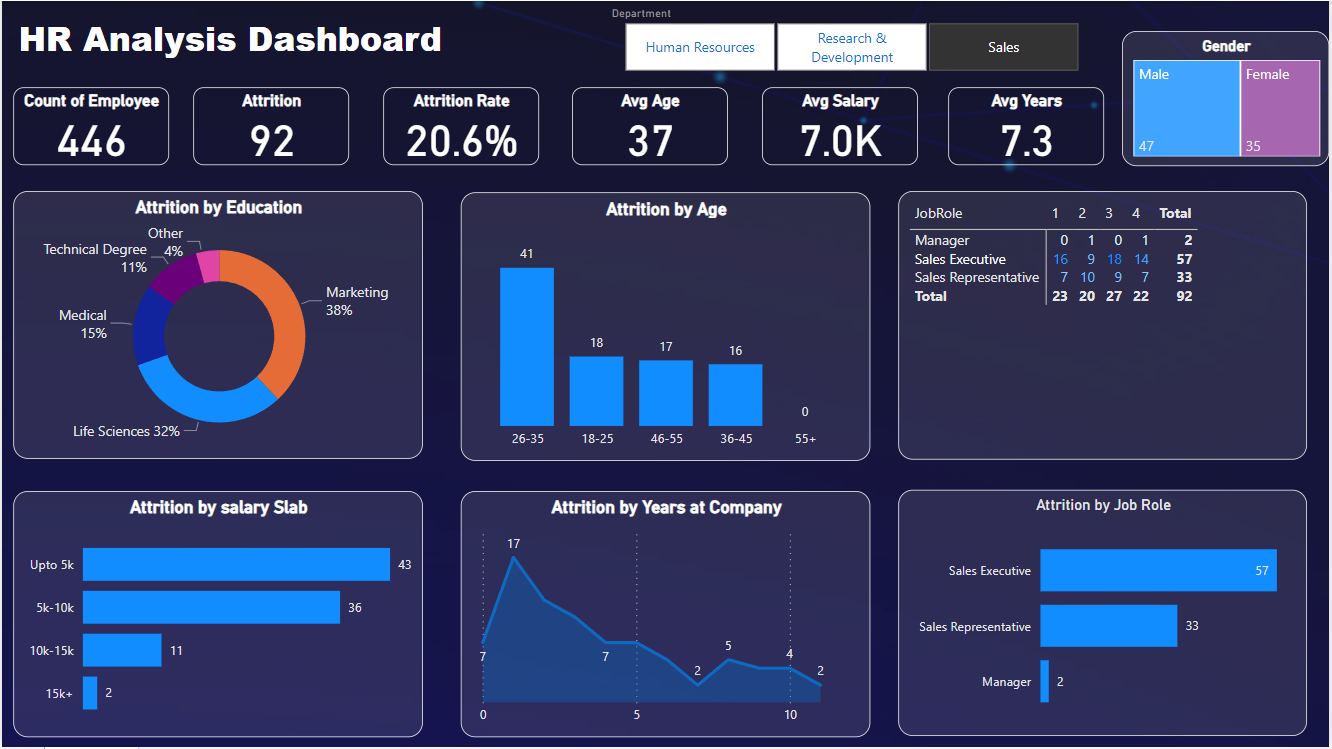

The page's visual inventory and layout, read from the dashboard file:
{"tool":"powerbi","page":{"name":"Page 1","canvas":[1280,720],"ordinal":0},"visuals":[{"type":"card","title":"Count of Employee","fields":{"Values":["CountNonNull(HR_Analytics.EmpID)"]},"box":[11.2,83.8,150,75],"z":0},{"type":"card","title":"Attrition","fields":{"Values":["Sum(HR_Analytics.AttritionCount)"]},"box":[185,83.8,150,75],"z":1000},{"type":"card","title":"Attrition Rate","fields":{"Values":["HR_Analytics.AttritionRate"]},"box":[367.5,83.8,150,75],"z":2000},{"type":"card","title":"Avg Age","fields":{"Values":["Avg(HR_Analytics.Age)"]},"box":[550,83.8,150,75],"z":3000},{"type":"card","title":"Avg Years","fields":{"Values":["Avg(HR_Analytics.YearsAtCompany)"]},"box":[912.5,83.8,150,75],"z":4000},{"type":"card","title":"Avg Salary","fields":{"Values":["Avg(HR_Analytics.MonthlyIncome)"]},"box":[733.8,83.8,150,75],"z":5000},{"type":"donutChart","title":"Attrition by Education","fields":{"Category":["HR_Analytics.EducationField"],"Y":["Sum(HR_Analytics.AttritionCount)"]},"box":[11.2,183.8,395,258.8],"z":6000},{"type":"columnChart","title":"Attrition by Age","fields":{"Category":["HR_Analytics.AgeGroup"],"Y":["Sum(HR_Analytics.AttritionCount)"]},"box":[427.5,183.8,395,258.8],"z":7000},{"type":"pivotTable","fields":{"Rows":["HR_Analytics.JobRole"],"Columns":["HR_Analytics.JobSatisfaction"],"Values":["Sum(HR_Analytics.AttritionCount)"]},"box":[850,183.8,395,258.8],"z":8000},{"type":"clusteredBarChart","title":"Attrition by salary Slab","fields":{"Category":["HR_Analytics.SalarySlab"],"Y":["Sum(HR_Analytics.AttritionCount)"]},"box":[11.2,472.5,395,237.5],"z":9000},{"type":"clusteredBarChart","title":"Attrition by Job Role","fields":{"Category":["HR_Analytics.JobRole"],"Y":["Sum(HR_Analytics.AttritionCount)"]},"box":[850,472.5,395,237.5],"z":10000},{"type":"areaChart","title":"Attrition by Years at Company","fields":{"Category":["HR_Analytics.YearsAtCompany"],"Y":["Sum(HR_Analytics.AttritionCount)"]},"box":[427.5,472.5,395,237.5],"z":11000},{"type":"treemap","title":"Gender","fields":{"Group":["HR_Analytics.Gender"],"Values":["Sum(HR_Analytics.AttritionCount)"]},"box":[1080,28.8,200,130],"z":12000},{"type":"slicer","fields":{"Values":["HR_Analytics.Department"]},"box":[575,0,487.5,74],"z":13000},{"type":"textbox","box":[11.2,8.8,490,66.2],"z":14000}]}

Visuals, with their boxes in screenshot pixels (x1, y1, x2, y2), scaled from the page's 1280x720 canvas onto the 1332x749 screenshot:
"Count of Employee" card: BBox(12, 87, 168, 165)
"Attrition" card: BBox(193, 87, 349, 165)
"Attrition Rate" card: BBox(382, 87, 539, 165)
"Avg Age" card: BBox(572, 87, 728, 165)
"Avg Years" card: BBox(950, 87, 1106, 165)
"Avg Salary" card: BBox(764, 87, 920, 165)
"Attrition by Education" donutChart: BBox(12, 191, 423, 460)
"Attrition by Age" columnChart: BBox(445, 191, 856, 460)
pivotTable - HR_Analytics.JobRole x HR_Analytics.JobSatisfaction: BBox(885, 191, 1296, 460)
"Attrition by salary Slab" clusteredBarChart: BBox(12, 492, 423, 739)
"Attrition by Job Role" clusteredBarChart: BBox(885, 492, 1296, 739)
"Attrition by Years at Company" areaChart: BBox(445, 492, 856, 739)
"Gender" treemap: BBox(1124, 30, 1331, 165)
slicer - HR_Analytics.Department: BBox(598, 0, 1106, 77)
textbox: BBox(12, 9, 522, 78)
